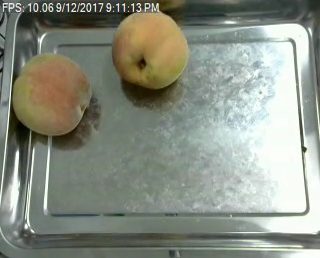Peach: (10, 52, 91, 136), (111, 9, 189, 88)
